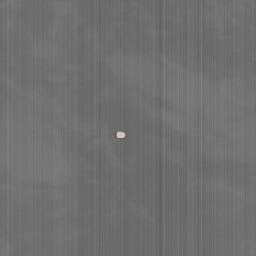Target: (114, 130, 128, 140)
